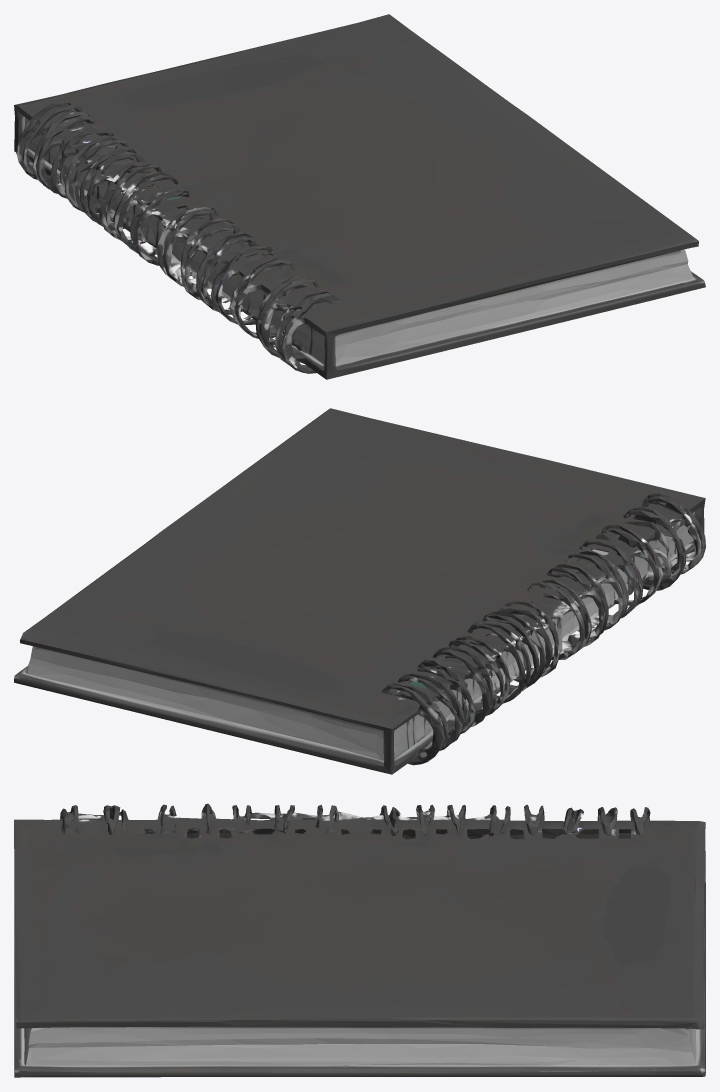
3 renders of one model, top to bottom at view 1: azimuth 30°, elevation 25°; view 2: azimuth 150°, elevation 25°; view 3: azimuth 270°, elevation 25°, orthographic. The views are drawn at different scales.
Parts seen in each view (by area): view 1: notebook.obj; view 2: notebook.obj; view 3: notebook.obj.
Part boxes in pixels (x1,y1,x2,y2): notebook.obj: (14, 14, 705, 379); notebook.obj: (14, 408, 705, 774); notebook.obj: (14, 803, 705, 1077).
Size of the model in its own units: 0.1145 by 0.0215 by 0.153.
1 material, 1 textured.
